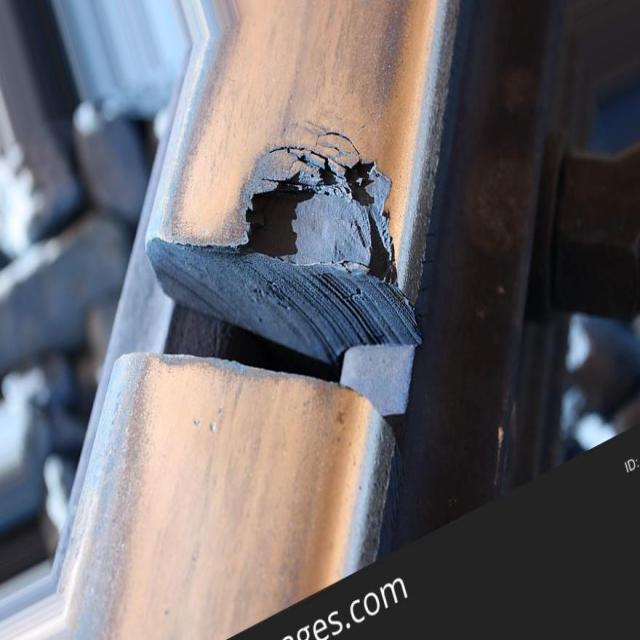crack: (93, 121, 471, 499)
